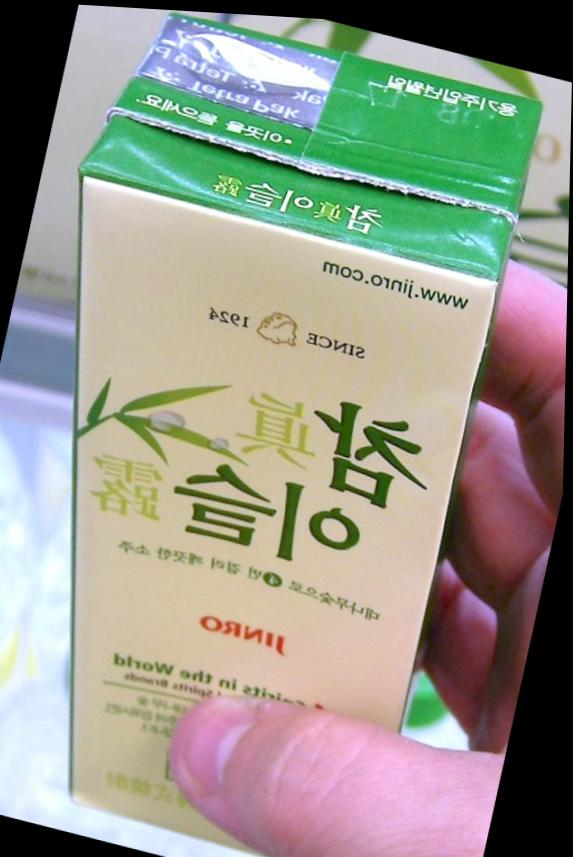cardboard: (0, 0, 546, 857)
